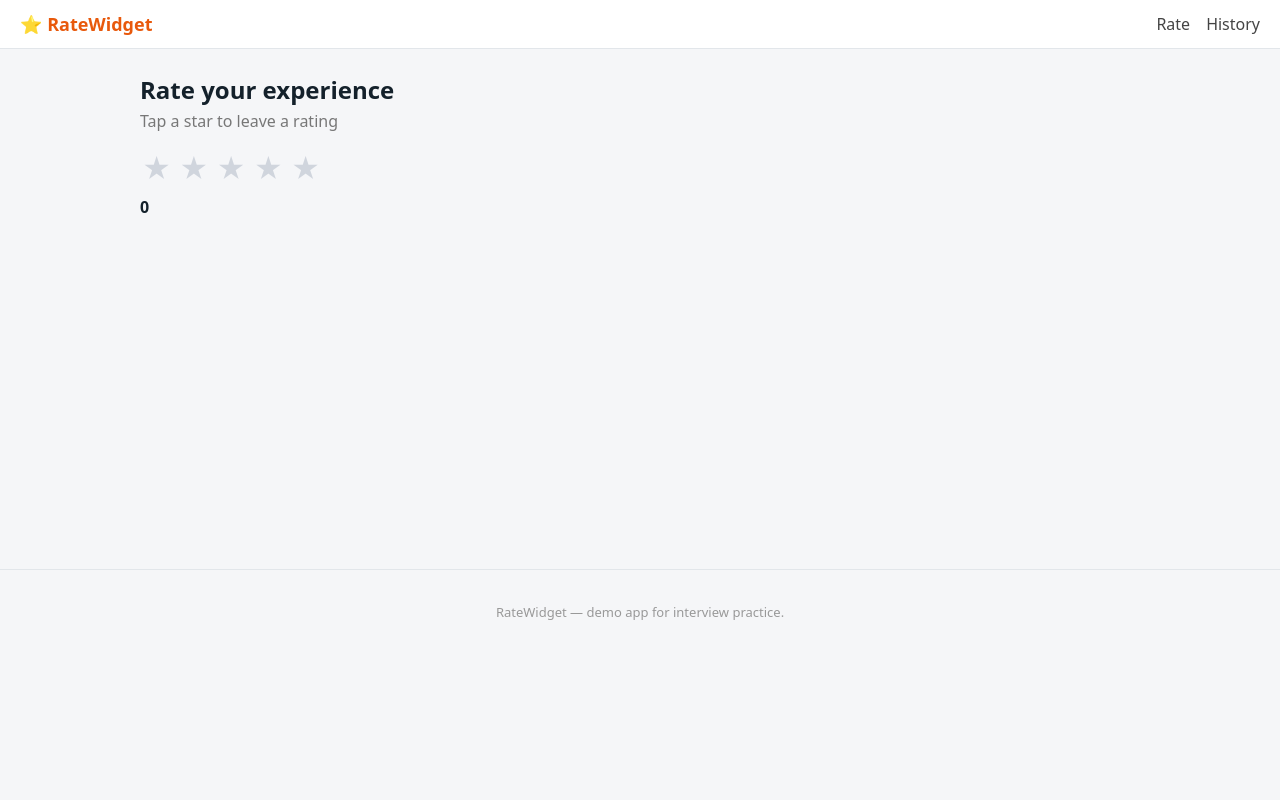
m12 · RateWidget — app renders › navigates to the History route via the navbar
The image size is (1280, 800).
Click the link with test id "nav-history" at (1233, 24), box 1206,13 -> 1260,35
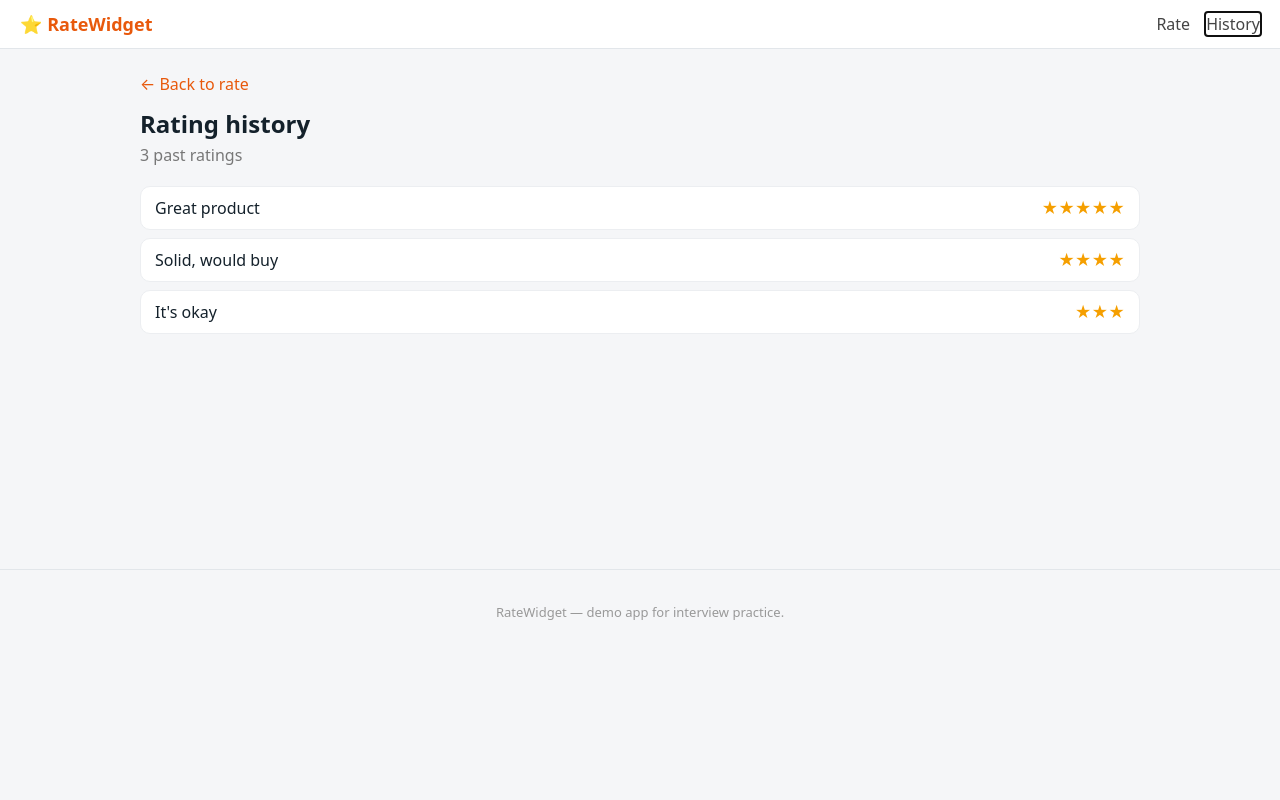
expect the element with test id "history-page" is shown: met, box 120,49 -> 1160,358
